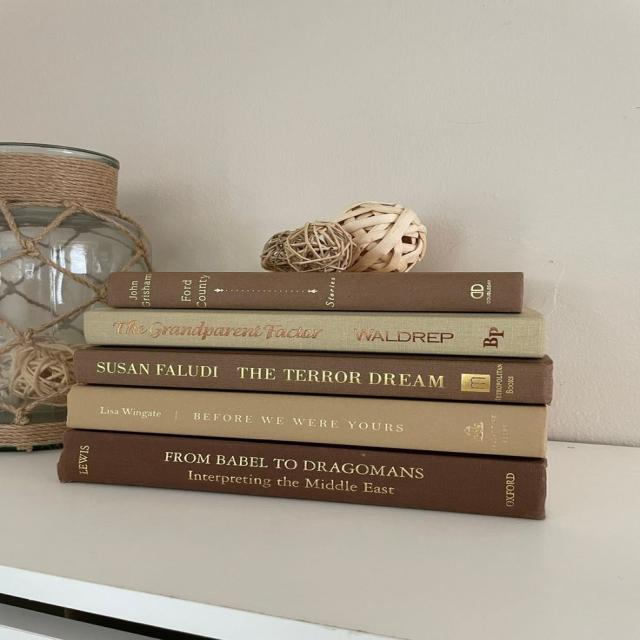book: (57, 429, 546, 519), (66, 386, 544, 457), (73, 347, 552, 405), (84, 309, 545, 358), (108, 272, 523, 313)
